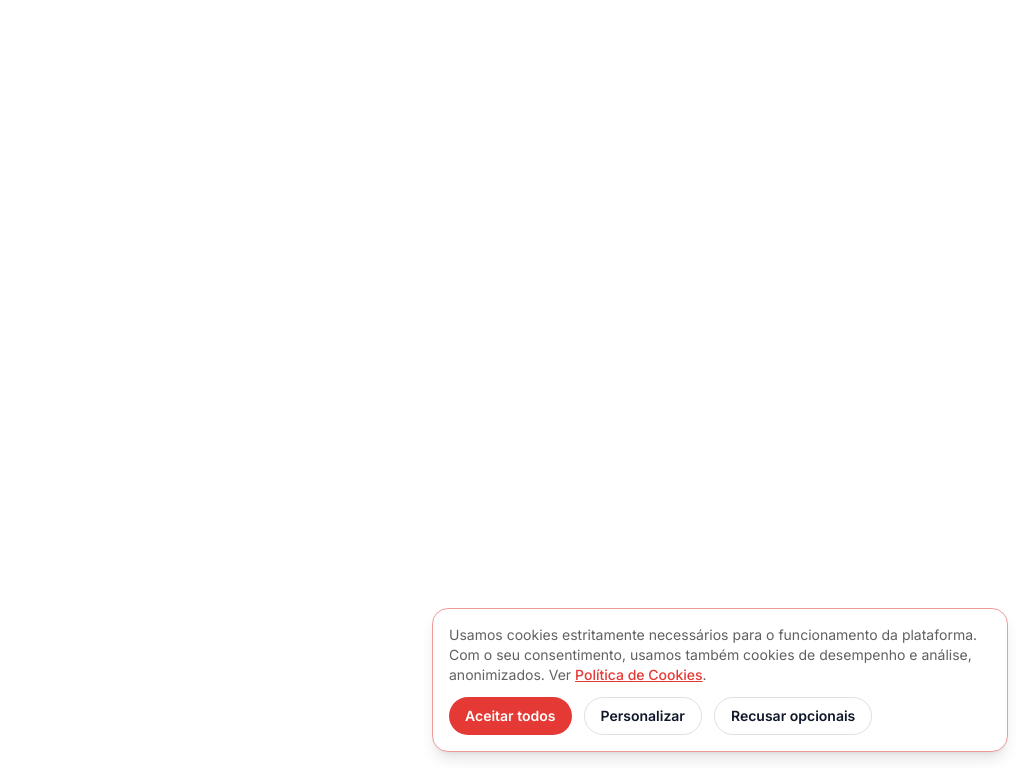
CookieConsent banner › personalizing reveals the analytics checkbox, unchecked by default
This screenshot has width=1024, height=768.
Step 1. Click the button "Personalizar" → (643, 716), box [584, 697, 702, 735]
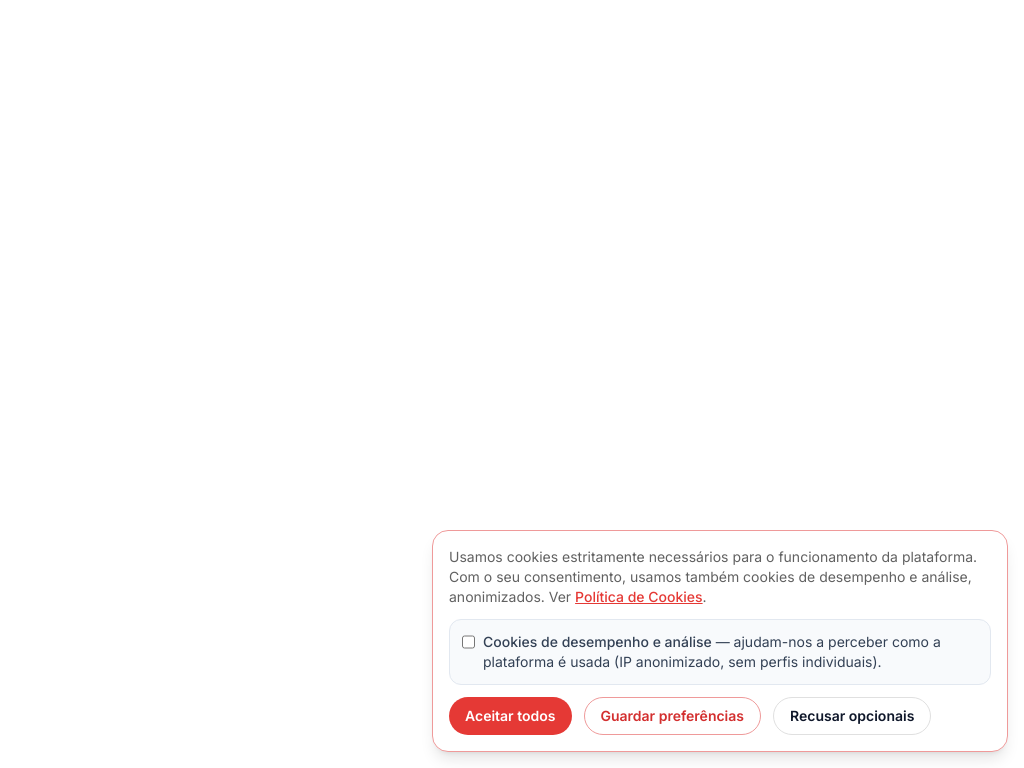
Check: the checkbox is not checked, box [462, 634, 475, 650]
